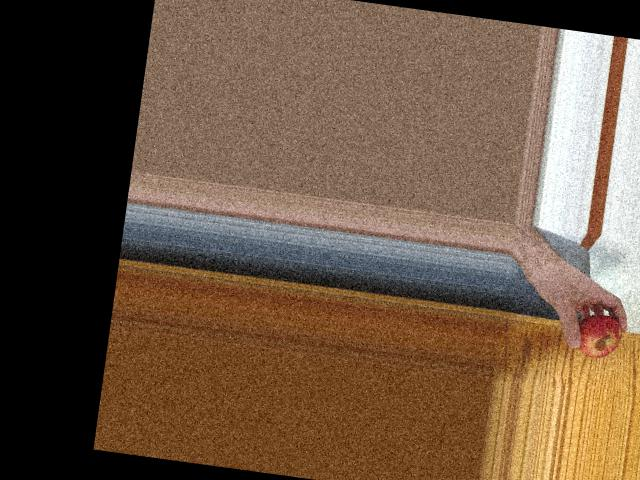apple: (568, 309, 626, 362)
